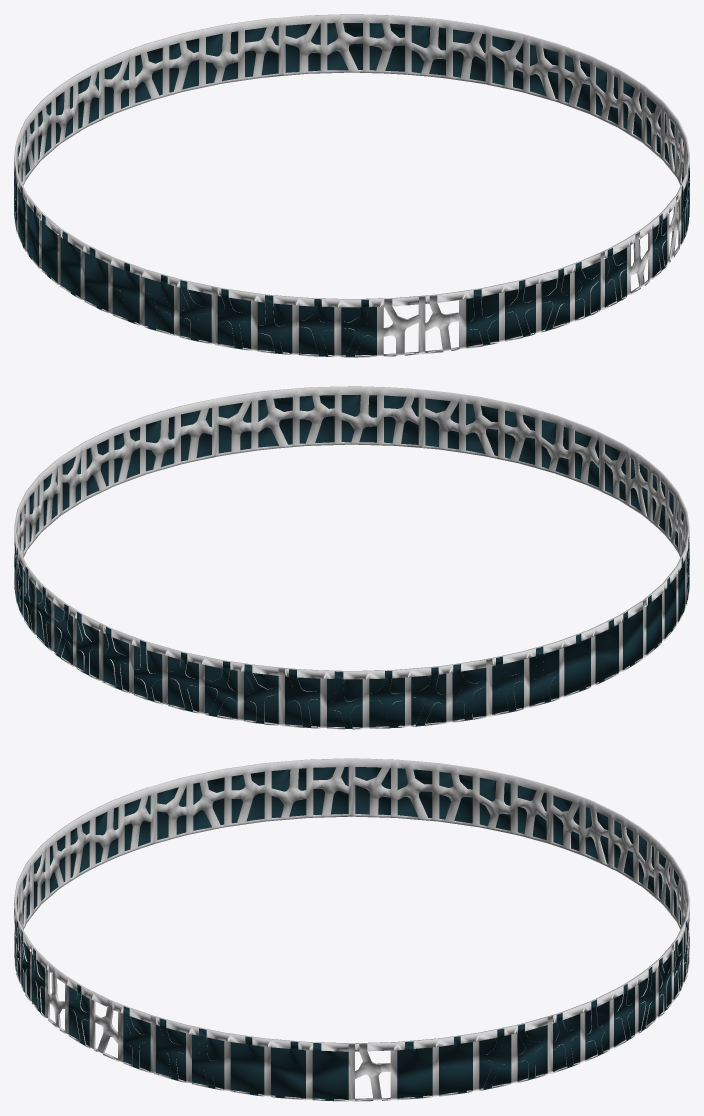
Rendered from Kompan Facade higher.fbx.
3 views of the same model, one above another, from view 1: azimuth 30°, elevation 25°; view 2: azimuth 150°, elevation 25°; view 3: azimuth 270°, elevation 25° (orthographic).
Parts seen in each view (by area): view 1: Kompan Facade; view 2: Kompan Facade; view 3: Kompan Facade.
Boxes of the visible parts, x1,y1,x2,y2 form: Kompan Facade: [14, 14, 689, 357]; Kompan Facade: [14, 386, 689, 729]; Kompan Facade: [14, 758, 689, 1101].
Size of the model in its own units: 2553 by 240 by 2552.
